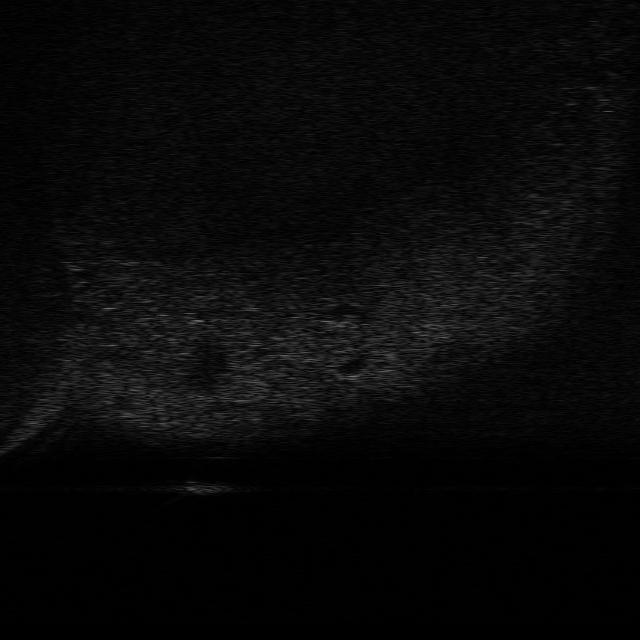cube: (170, 480, 230, 495)
